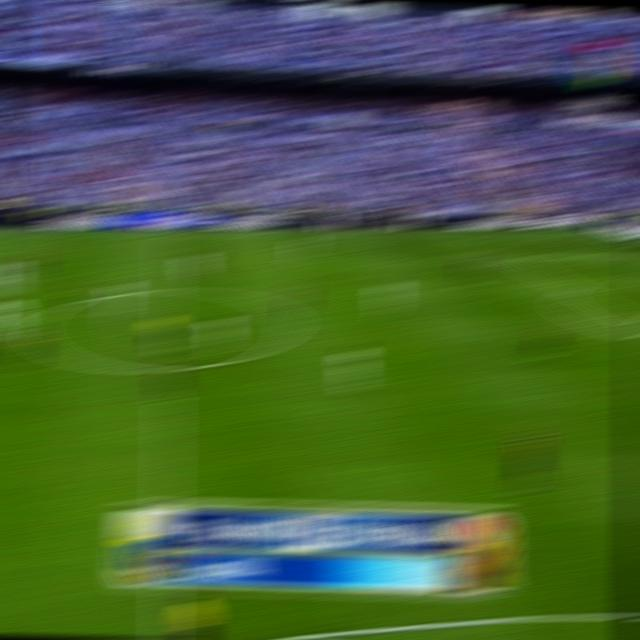bigarea_bottom_inner: (485, 581, 511, 605)
corner: (581, 226, 603, 234)
halfcircle_top: (157, 281, 181, 298)
midline_top_intersection: (158, 228, 180, 239)
top_arc_area_intersection: (561, 282, 583, 293)
